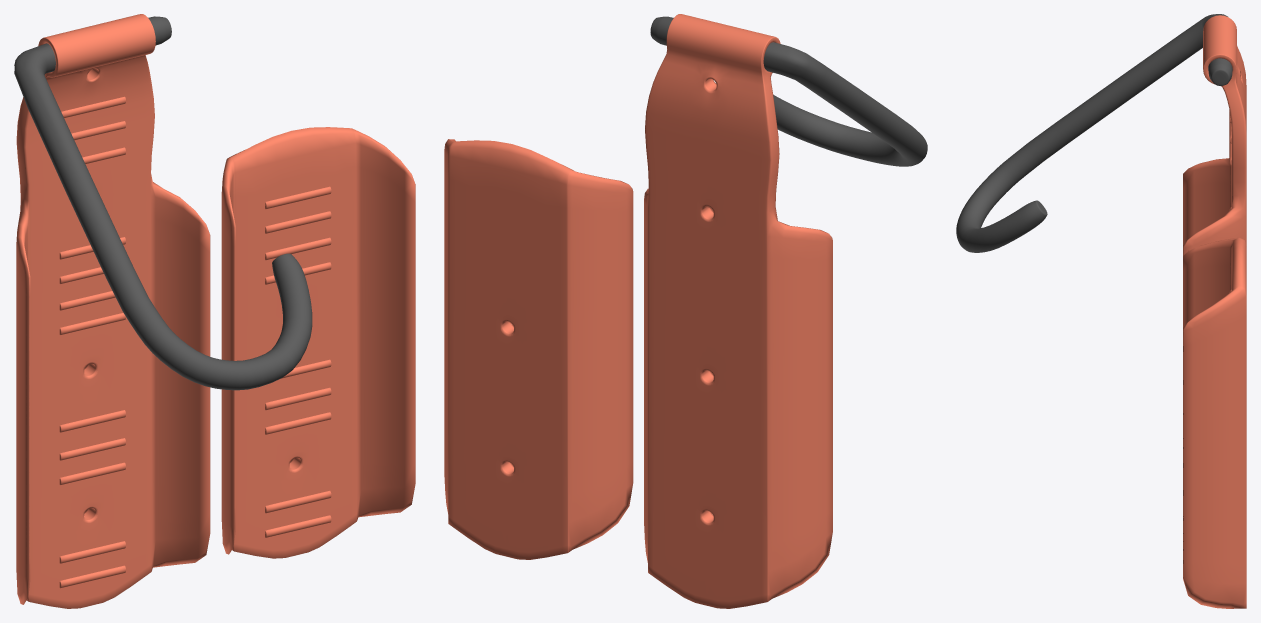
File: hang1.glb
3 views of the same model, side by side, from view 1: azimuth 30°, elevation 25°; view 2: azimuth 150°, elevation 25°; view 3: azimuth 270°, elevation 25° (orthographic). The views are drawn at different scales.
Parts seen in each view (by area): view 1: hanger; view 2: hanger; view 3: hanger.
Boxes of the visible parts, x1,y1,x2,y2 form: hanger: (14, 14, 415, 608); hanger: (444, 14, 927, 608); hanger: (956, 14, 1246, 608).
Size of the model in its own units: 0.2684 by 0.3871 by 0.2113.
